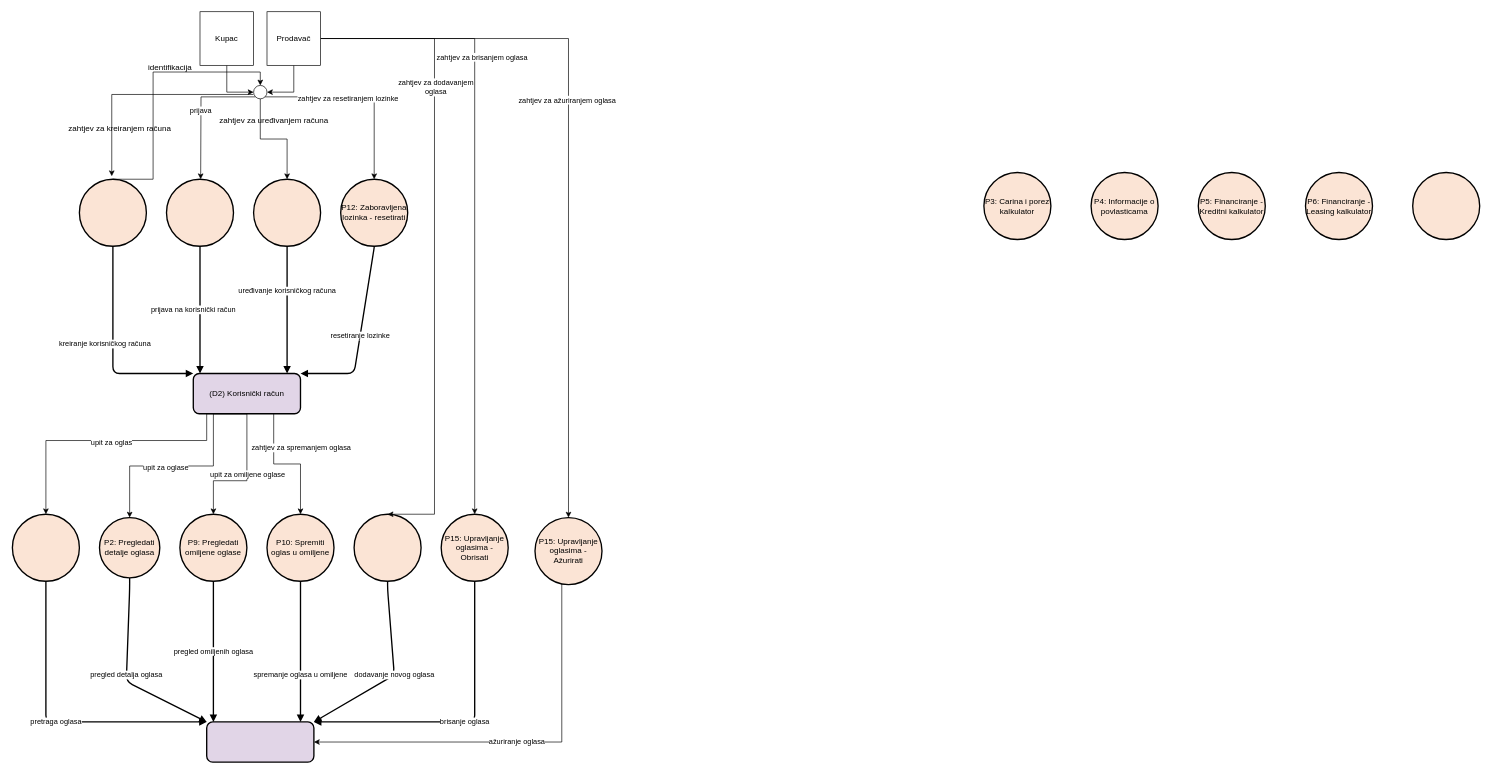
Image size: 1491x775. Some labels were removed from this diagram. The box of each missing label's shape, as (x1, y1, x2, y2) in pixels:
(D1) Oglas: (206, 721, 314, 762)
P11: Urediti korisniči račun: (253, 178, 321, 247)
P13: Prijava administratora: (1412, 172, 1480, 240)
P14: Upravljanje oglasima - Dodati: (353, 513, 421, 582)
P1: Pretražiti oglas: (11, 513, 80, 582)
P7: Kreirati korisnički račun: (78, 178, 147, 247)
P8: Prijaviti se u korisnički račun: (165, 178, 234, 247)
